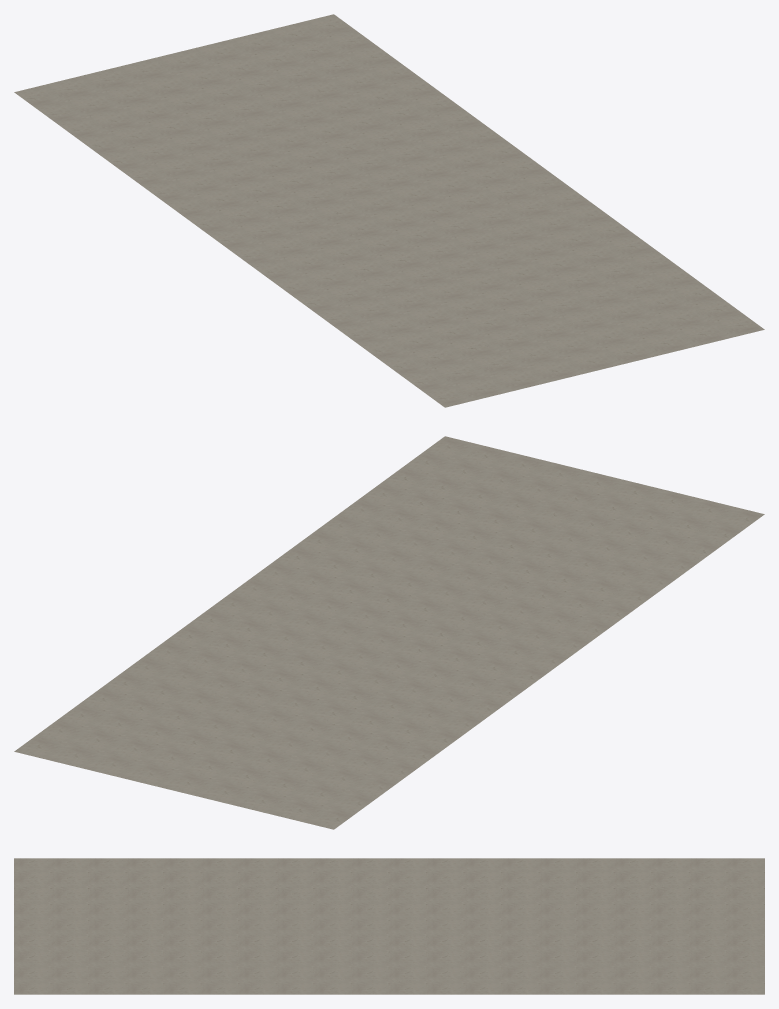
The model's file is ground.glb.
The picture shows the model from 3 angles, top to bottom: view 1: azimuth 30°, elevation 25°; view 2: azimuth 150°, elevation 25°; view 3: azimuth 270°, elevation 25°; orthographic projection. The views are drawn at different scales.
Parts seen in each view (by area): view 1: Ground; view 2: Ground; view 3: Ground.
Boxes of the visible parts, <box> form: Ground: <box>14,14,764,407</box>; Ground: <box>14,436,764,829</box>; Ground: <box>14,858,764,994</box>.
Size of the model in its own units: 294 by 0.000245 by 686.
1 material, 1 textured.
